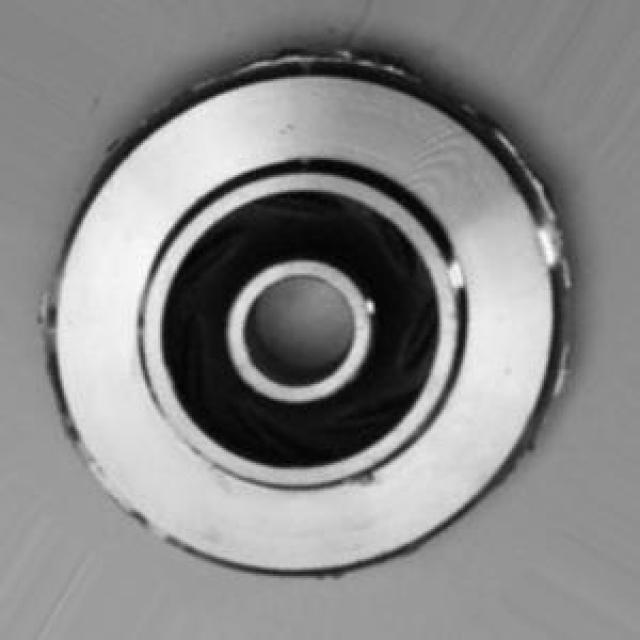Defect: (517, 152, 559, 225)
